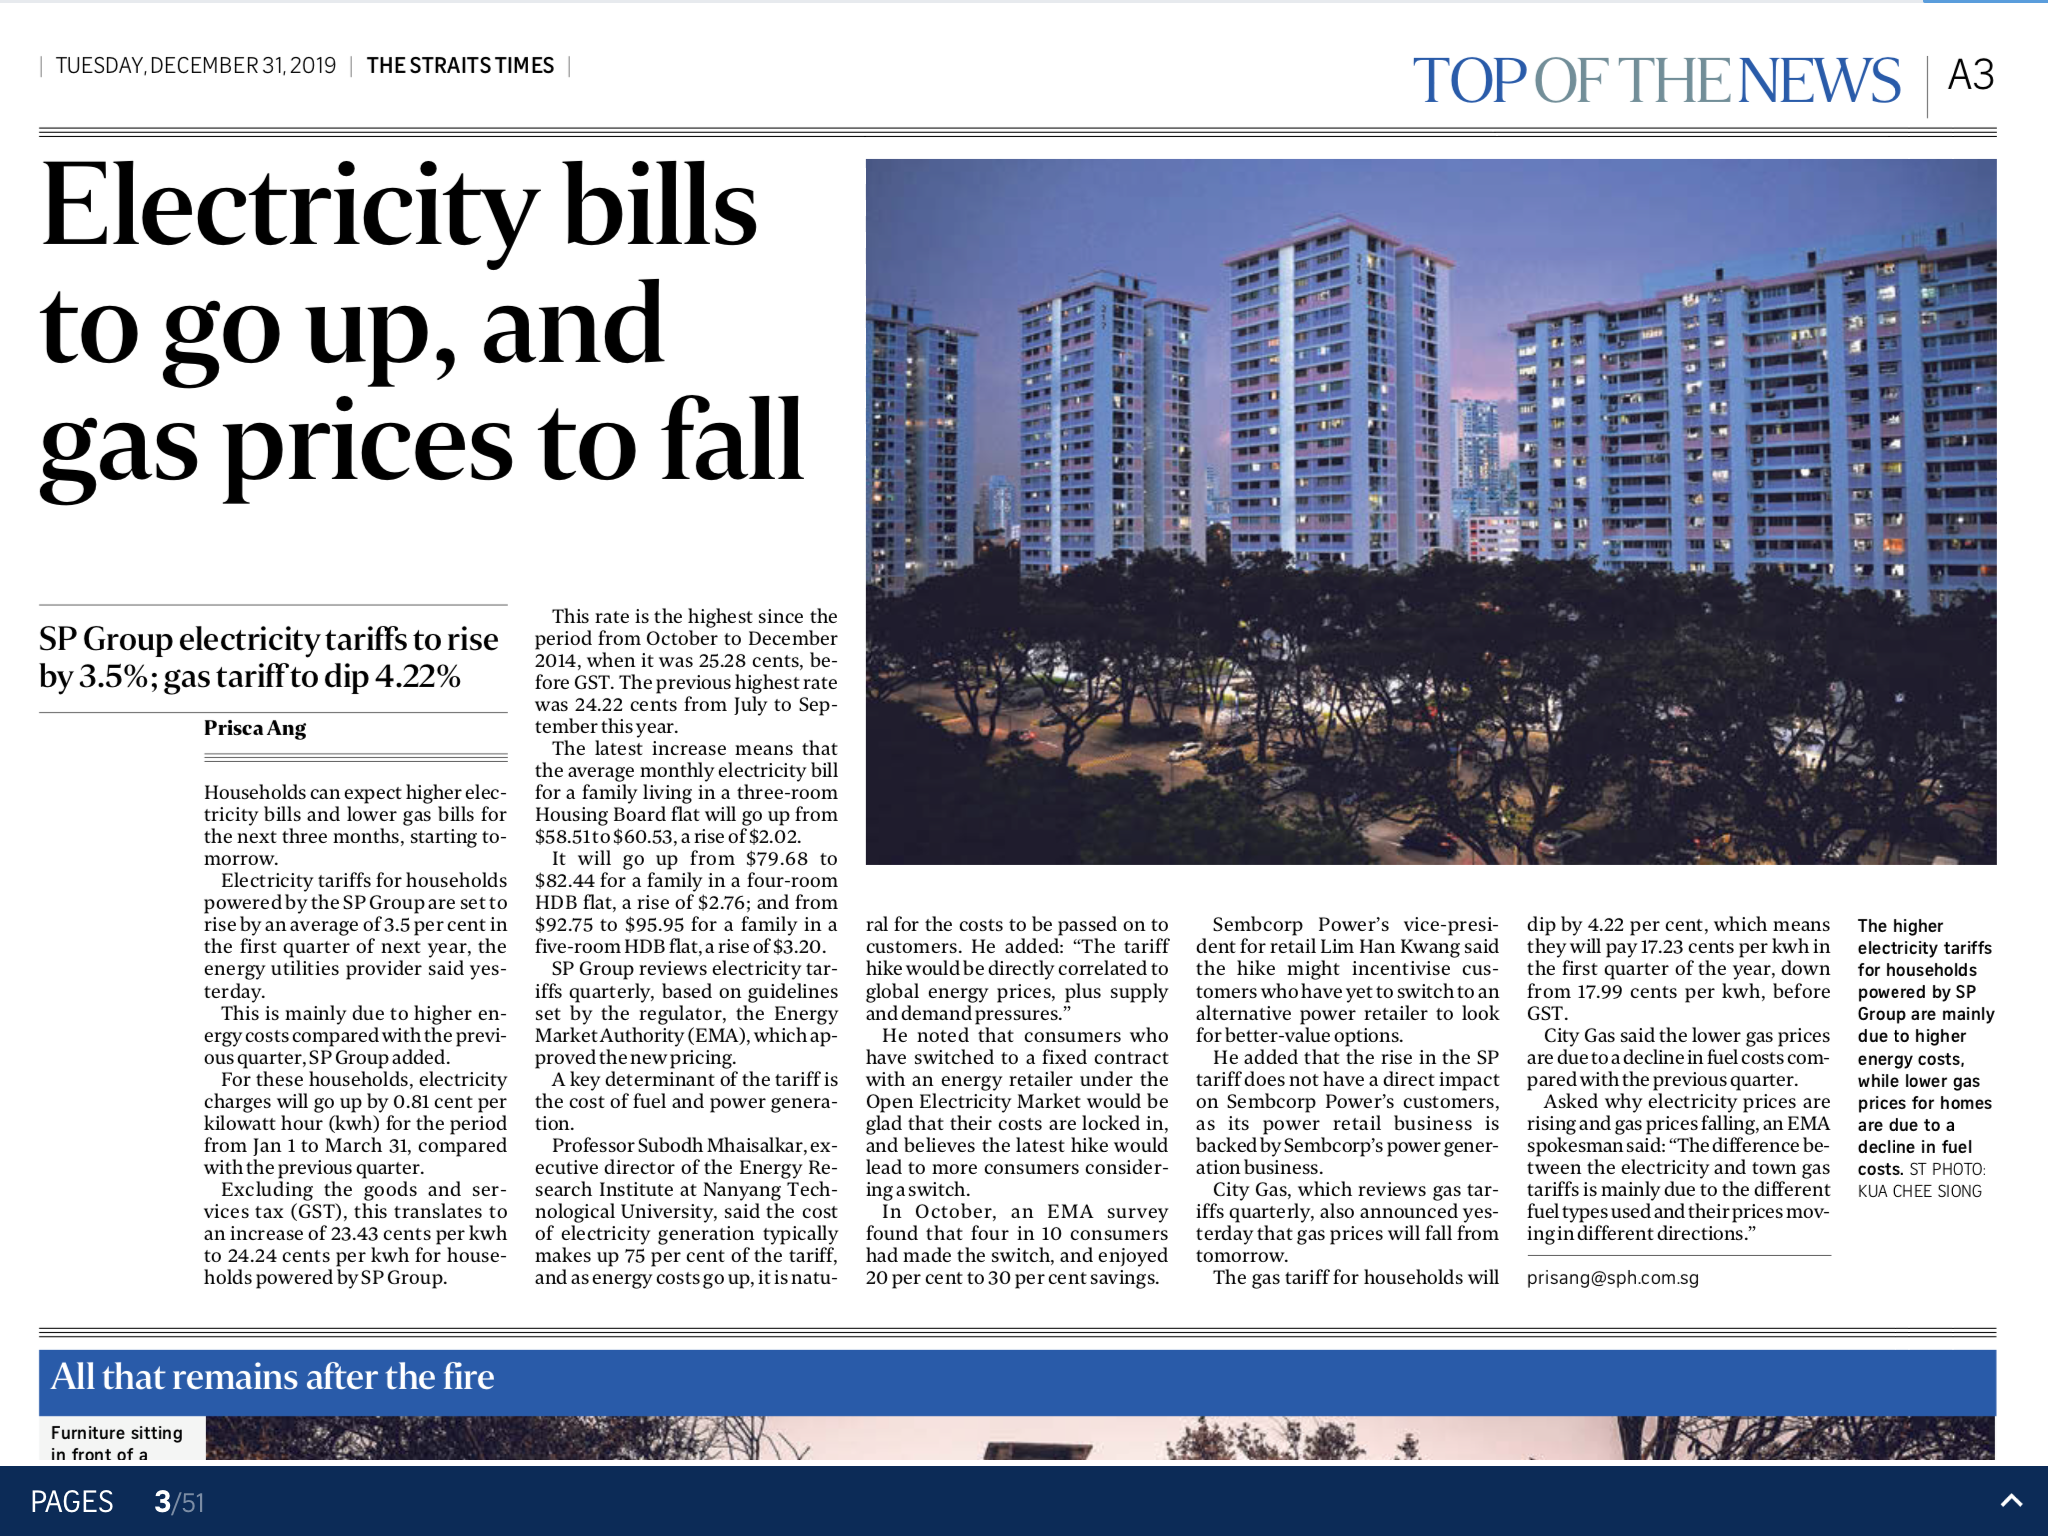Byline: (198, 715, 313, 744)
Headline: (31, 144, 818, 516)
Illustration: (1851, 907, 2006, 1207)
Image: (863, 163, 1996, 865)
Text: (526, 595, 847, 1300), (195, 778, 516, 1300), (861, 904, 1177, 1302), (1187, 907, 1509, 1297), (1526, 907, 1838, 1246), (32, 615, 505, 702)
